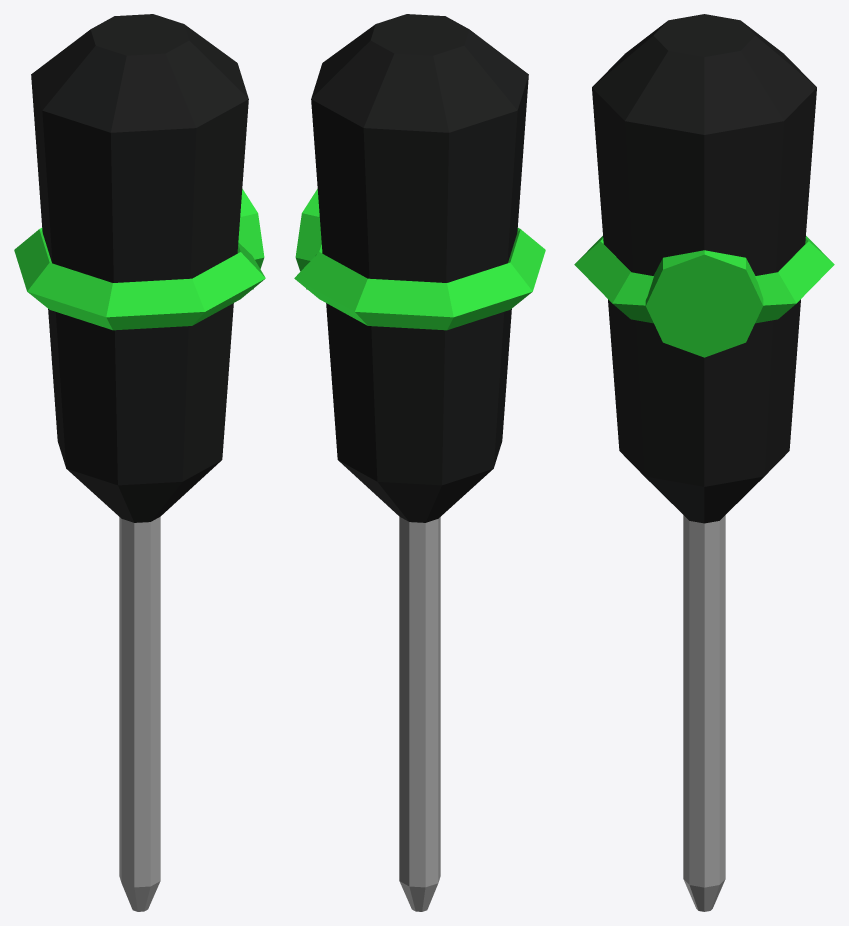
The model's file is screwdriver_green.gltf.
The picture shows the model from 3 angles, left to right: view 1: azimuth 30°, elevation 25°; view 2: azimuth 150°, elevation 25°; view 3: azimuth 270°, elevation 25°; orthographic projection.
Parts seen in each view (by area): view 1: Cylinder, Circle; view 2: Cylinder, Circle; view 3: Cylinder, Circle.
Part boxes in pixels (x1,y1,x2,y2): Cylinder: (31,14,248,911); Circle: (14,189,265,330); Cylinder: (311,14,528,911); Circle: (294,189,545,330); Cylinder: (592,14,816,911); Circle: (574,236,834,357).
Bounding box in the file's own units: 1.94 × 7.66 × 2.07.
